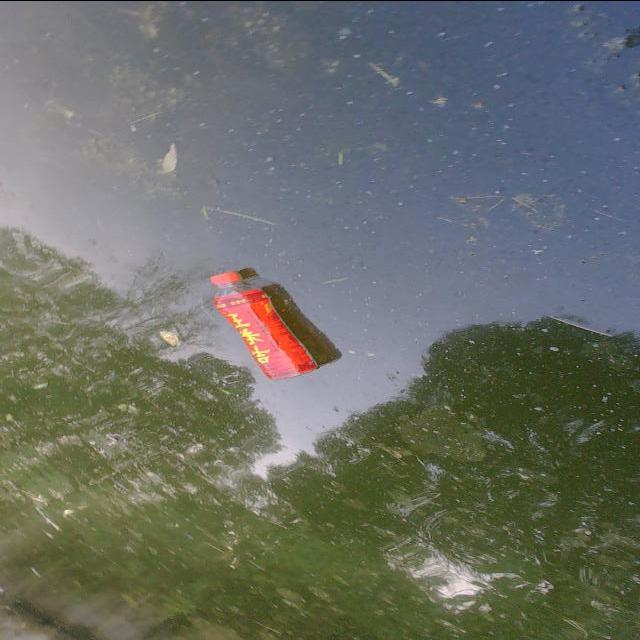bottle: (201, 258, 324, 392)
